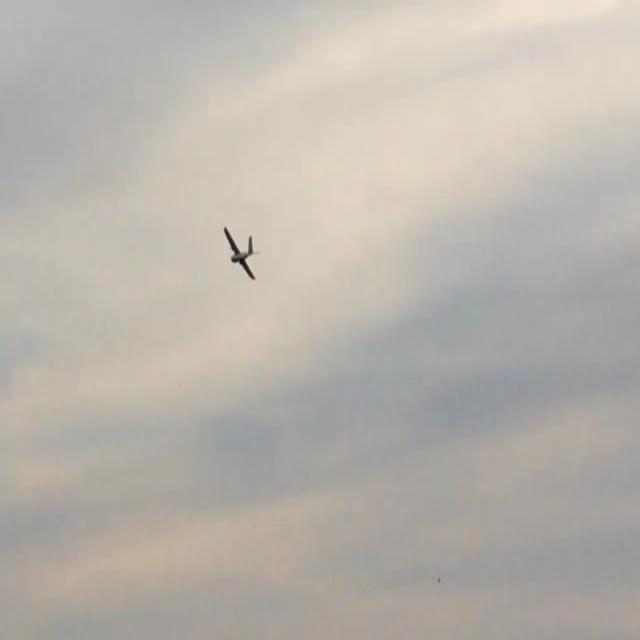iha: (223, 227, 260, 280)
